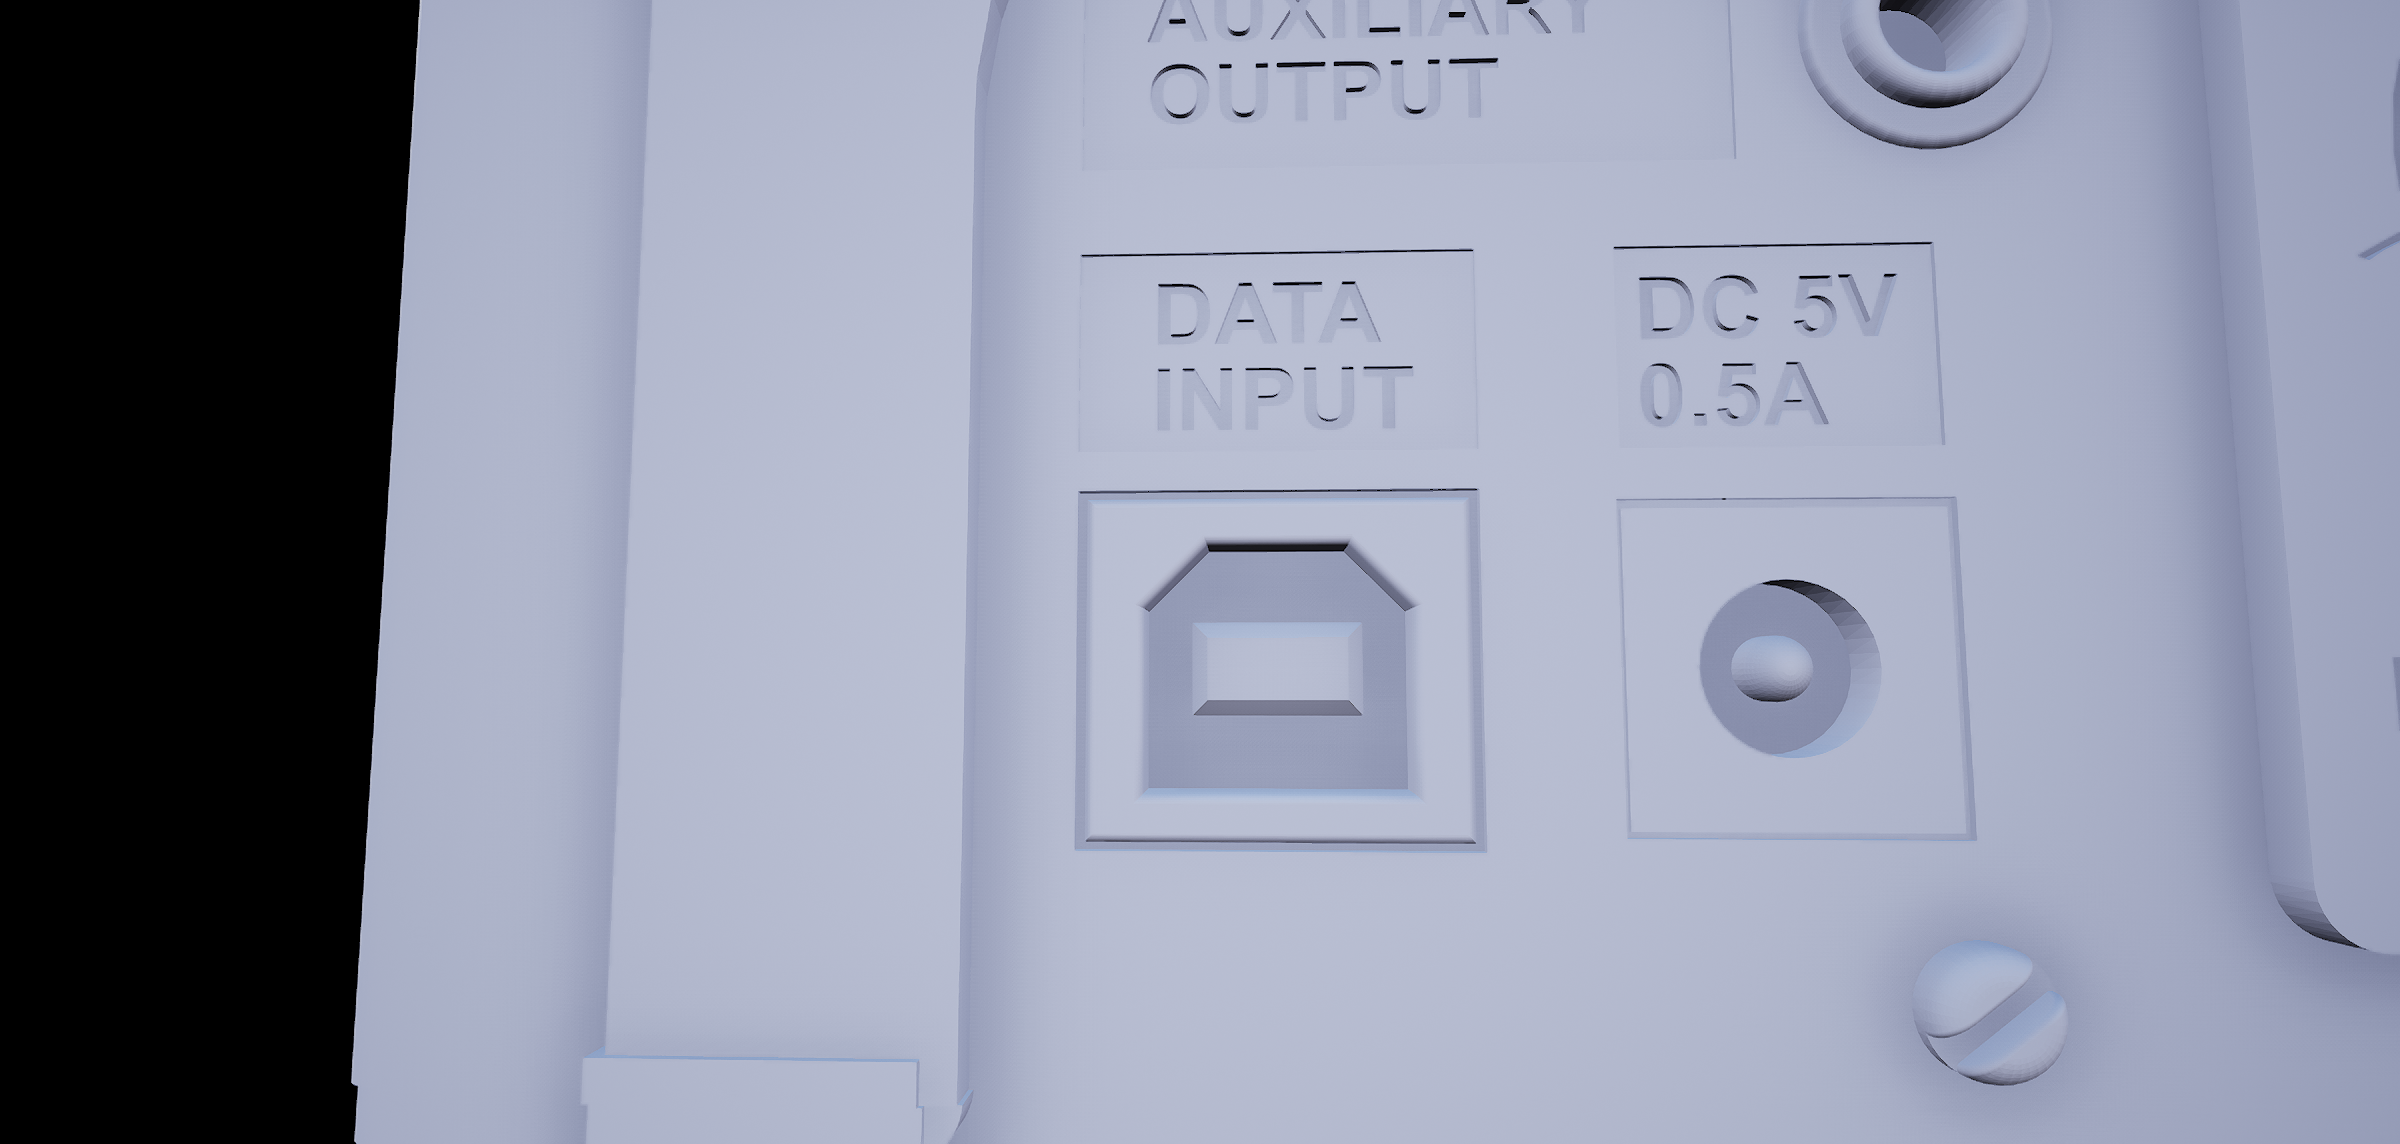aux: (1789, 2, 2059, 159)
dc: (1681, 570, 1918, 790)
usb: (1130, 521, 1440, 812)
